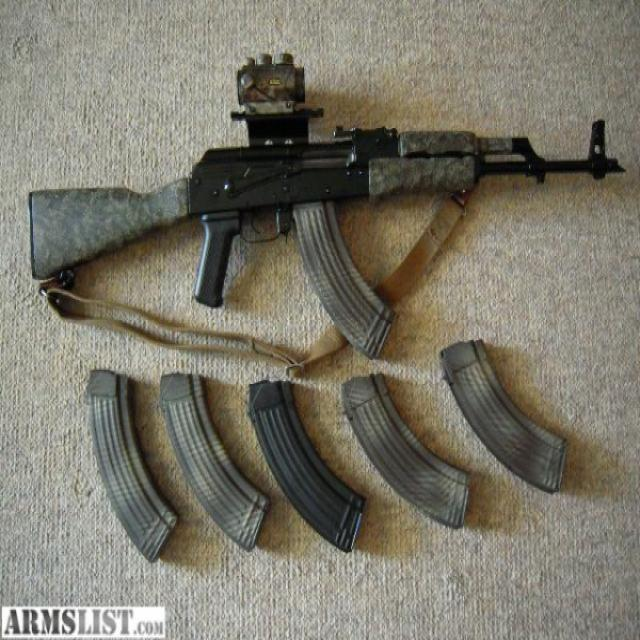gun-knife-thesis - v11 Yolov5 augmented: (28, 118, 621, 357)
